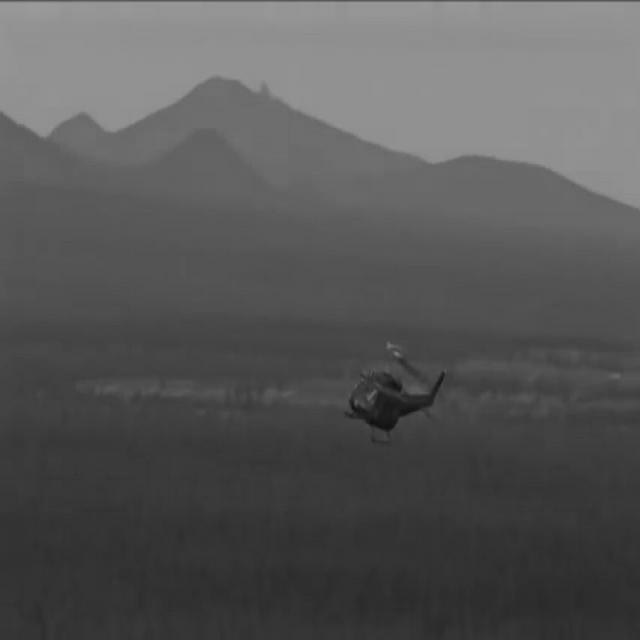helikopter: (321, 327, 474, 457)
